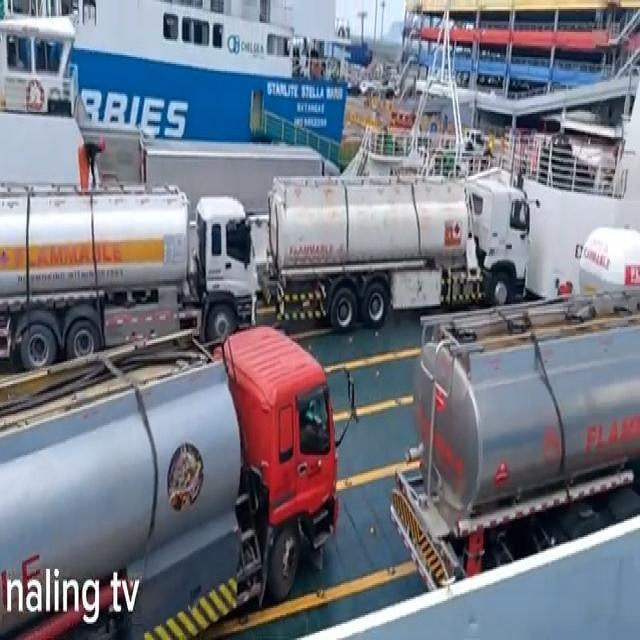truck: (0, 320, 341, 638), (384, 290, 640, 595), (0, 185, 257, 370), (265, 170, 531, 332)
